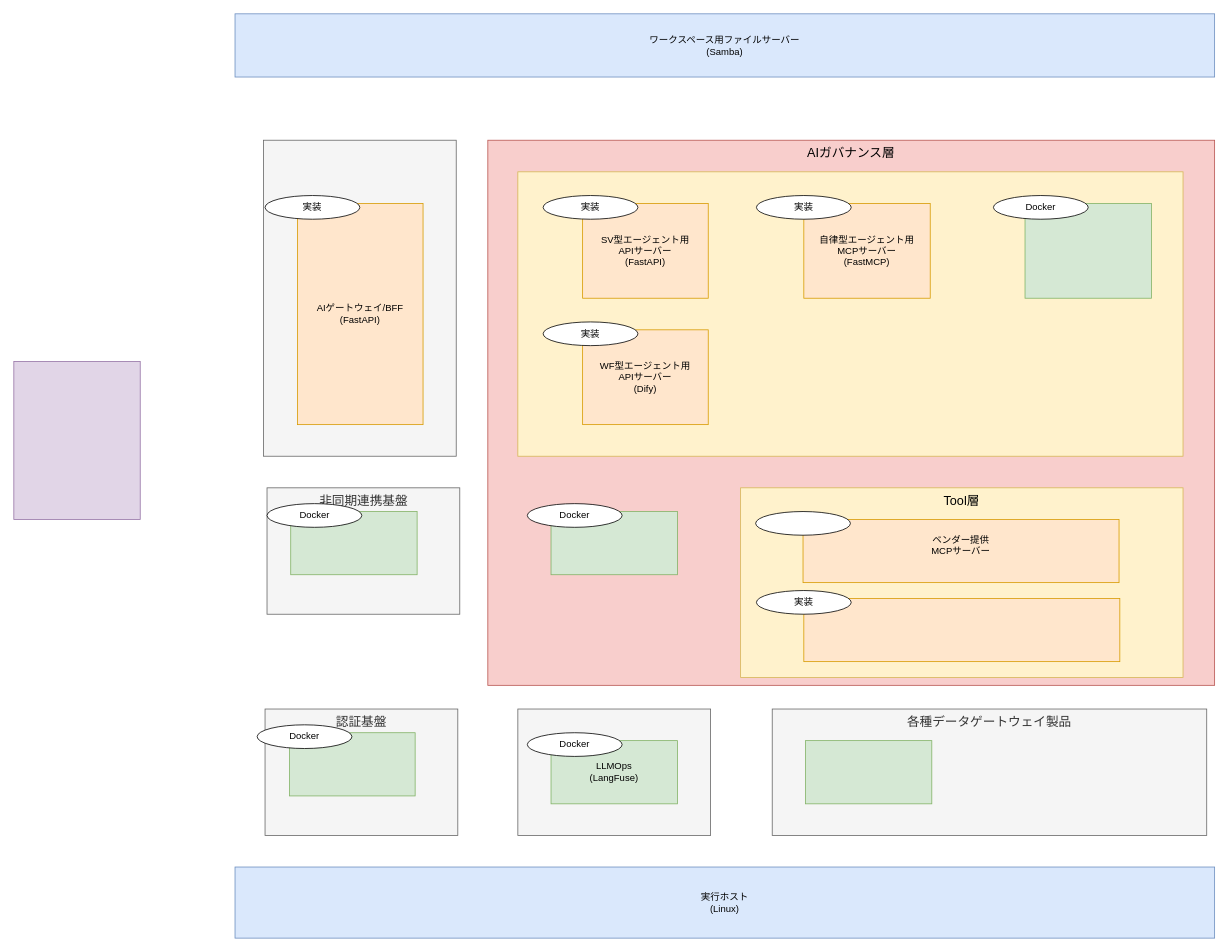
Some shapes in this 1228 by 952 pixel diagram are drawn without their labels. The box of each missing label's shape, as (x1, y1, x2, y2) in pixels:
Application層: (517, 171, 1183, 456)
BFF層: (263, 139, 456, 456)
Denodo: (805, 740, 932, 804)
IdP (Zitadel): (289, 732, 415, 796)
LLM Proxy (LiteLLM): (550, 511, 677, 575)
クライアント: (13, 361, 140, 519)
ベンダー提供: (755, 511, 850, 535)
独自開発 MCPサーバー: (803, 598, 1120, 662)
自律型エージェント (Claude Code/ Codex / etc): (1024, 203, 1151, 298)
運用監視基盤: (517, 708, 711, 835)
非同期イベント (Redis): (290, 511, 417, 575)
